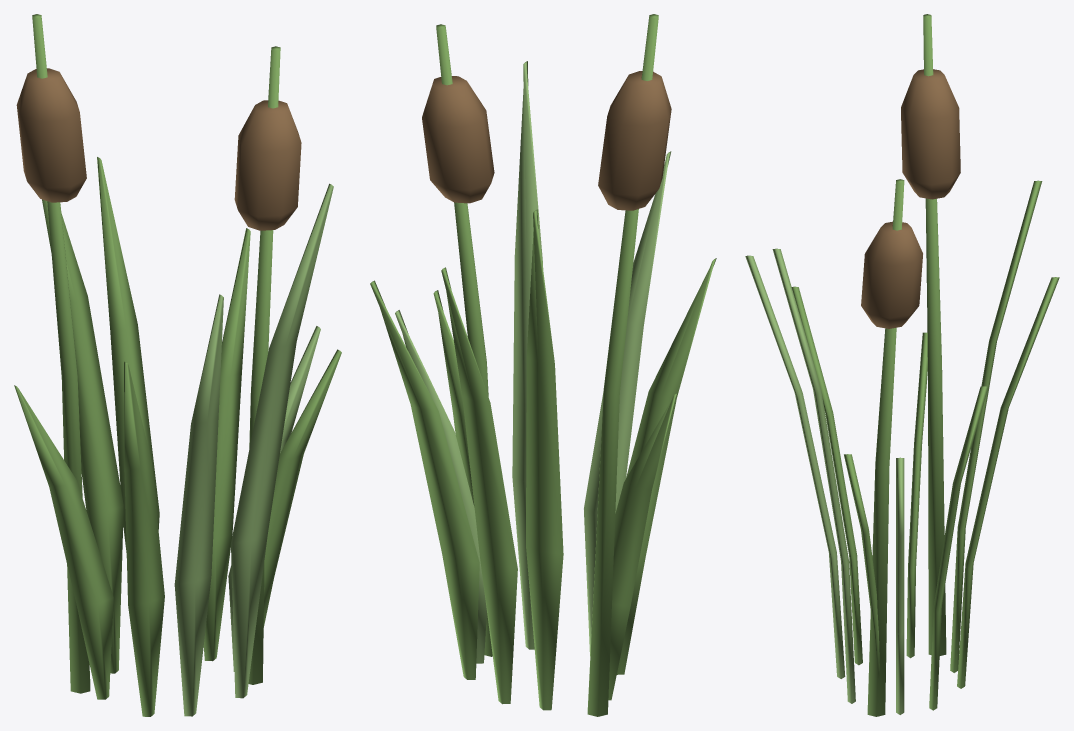
File: prop-reeds.glb
3 views of the same model, side by side, from view 1: azimuth 30°, elevation 25°; view 2: azimuth 150°, elevation 25°; view 3: azimuth 270°, elevation 25° (orthographic). The views are drawn at different scales.
Visible parts, largest first — view 1: prop-reeds_leaf, prop-reeds_grass, prop-reeds_bark; view 2: prop-reeds_leaf, prop-reeds_grass, prop-reeds_bark; view 3: prop-reeds_leaf, prop-reeds_bark, prop-reeds_grass.
Boxes of the visible parts, x1,y1,x2,y2 form: prop-reeds_leaf: (14, 14, 341, 716); prop-reeds_grass: (174, 183, 333, 716); prop-reeds_bark: (16, 68, 301, 230); prop-reeds_leaf: (370, 14, 716, 716); prop-reeds_grass: (395, 61, 671, 663); prop-reeds_bark: (422, 71, 671, 210); prop-reeds_leaf: (791, 14, 1059, 716); prop-reeds_bark: (861, 69, 960, 328); prop-reeds_grass: (745, 248, 904, 714).
Bounding box in the file's own units: 0.4388 × 1 × 0.4636.
